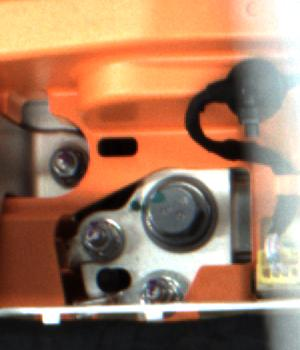nut_b: (141, 165, 219, 254)
screw_s: (72, 217, 135, 260), (44, 144, 83, 185), (141, 269, 179, 303)
